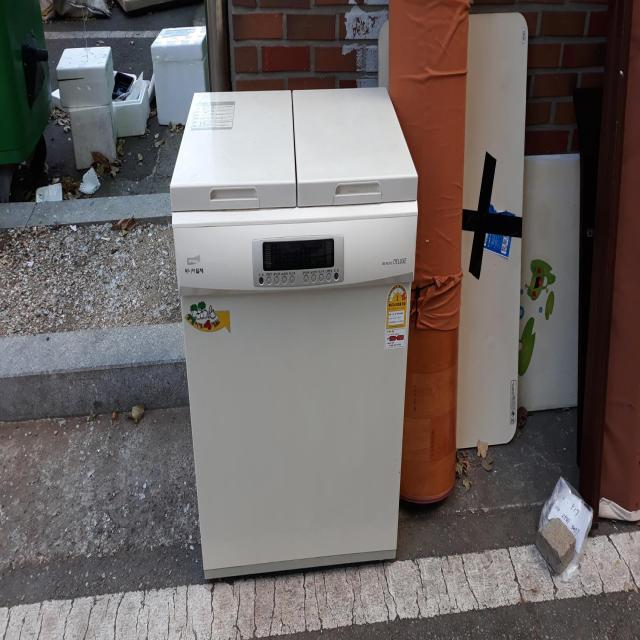refrigerator: (170, 86, 420, 586)
